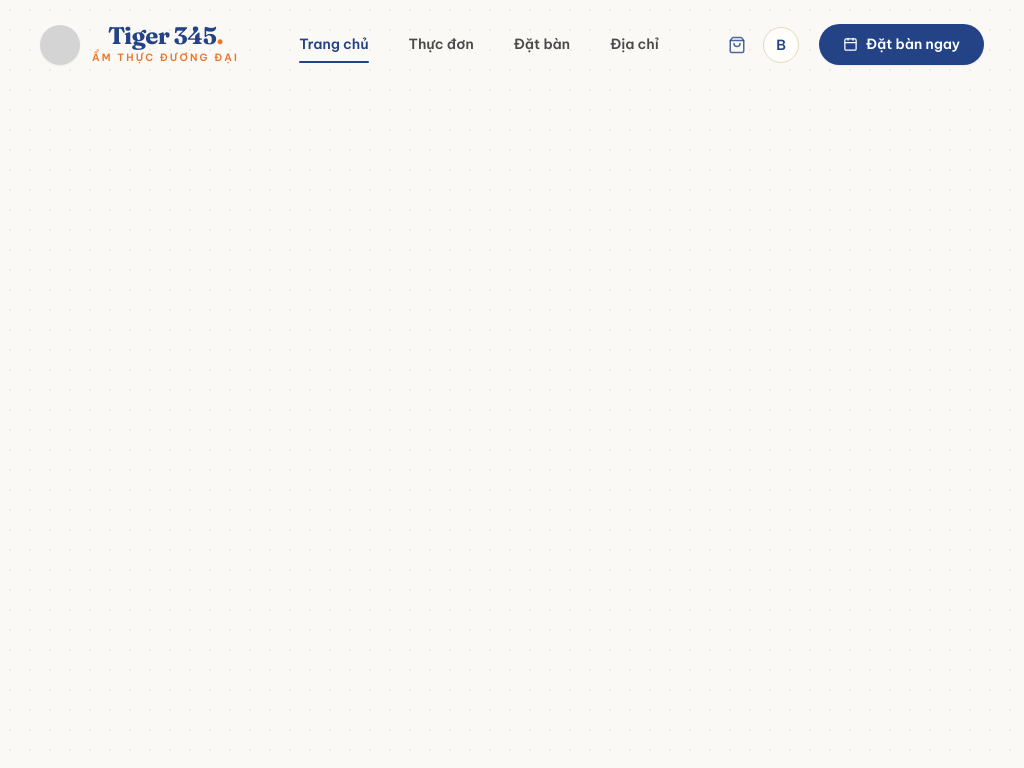
Scenario: Public Header Navigation & Role Separation › renders admin dropdown with "Trang quản trị" and NO customer links for admin user
Click the button named "tài khoản bếp trưởng tiger" at (781, 44), box [763,26,799,62]
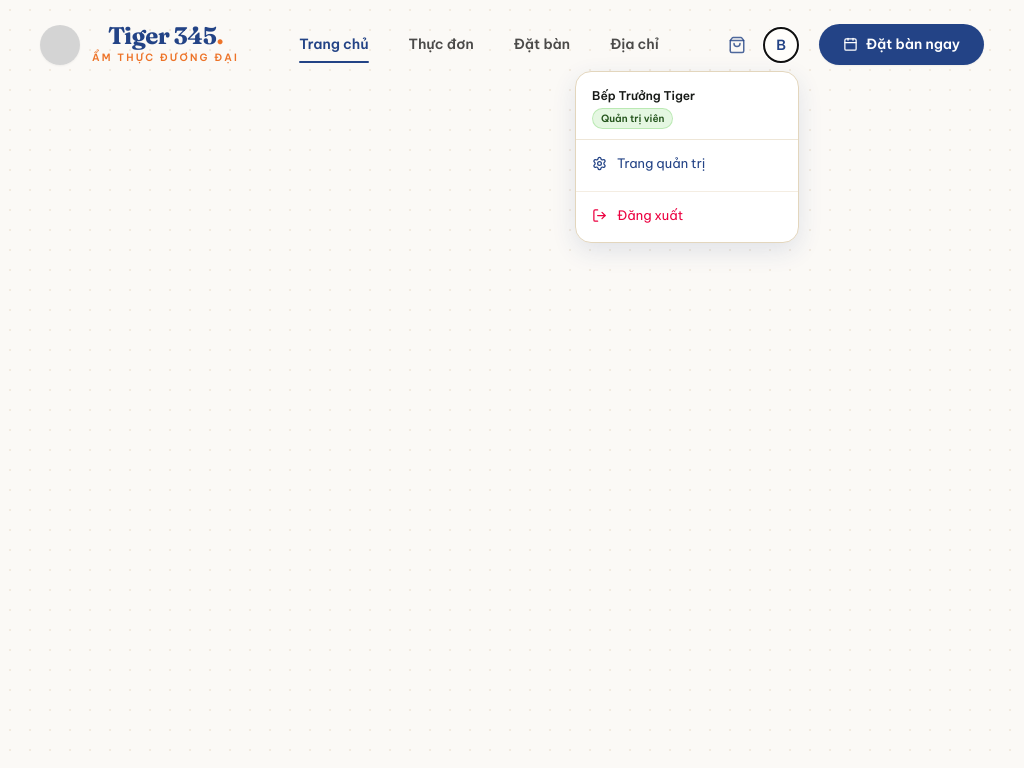
Check: the text "Quản trị viên" is shown, box [592,108,673,128]
Check: the link "Trang quản trị" is shown, box [592,154,705,171]
Check: the menu item "Đăng xuất" is shown, box [576,196,798,236]
